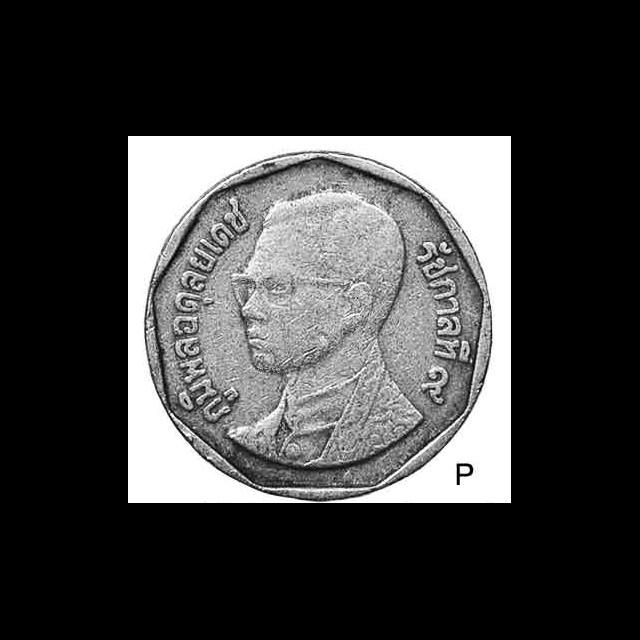5-baht: (128, 136, 512, 504)
